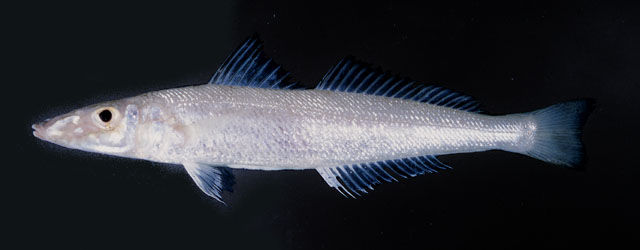fish: (30, 38, 580, 206)
